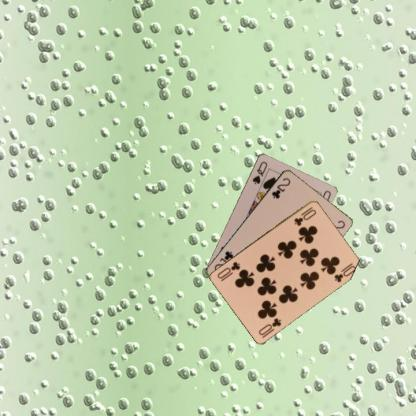10c: (291, 204, 317, 227), (256, 315, 282, 336)
2c: (269, 175, 292, 200)
Qs: (250, 158, 268, 186)
